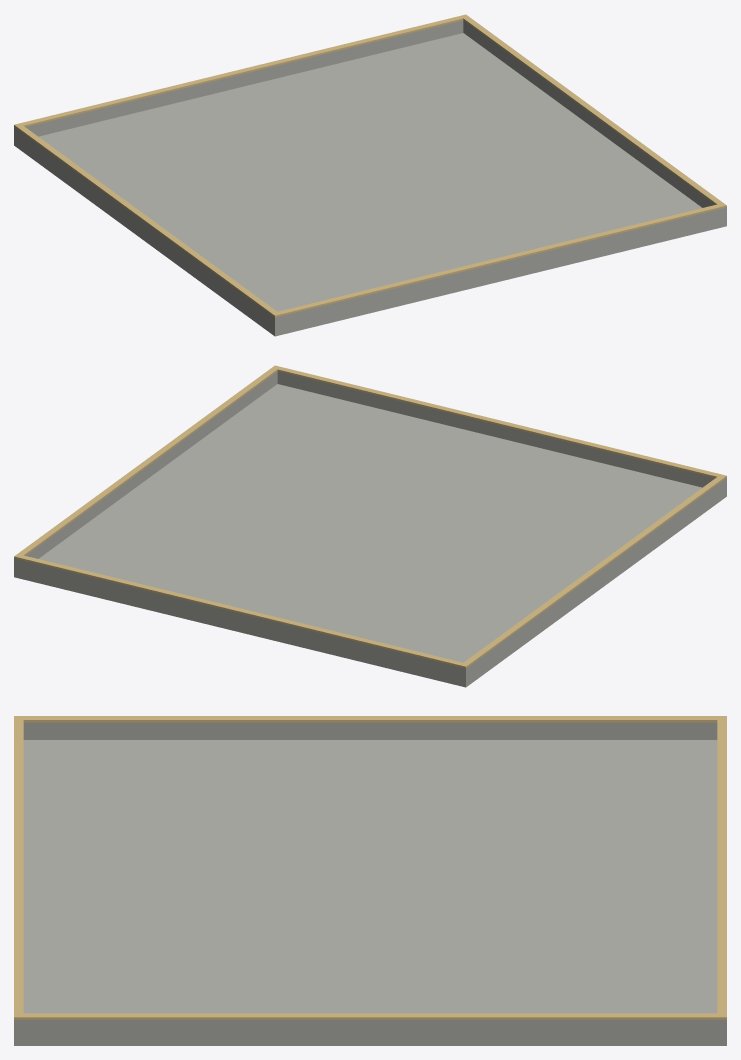
Rendered from mod_roof_flat.glb.
The picture shows the model from 3 angles, top to bottom: view 1: azimuth 30°, elevation 25°; view 2: azimuth 150°, elevation 25°; view 3: azimuth 270°, elevation 25°; orthographic projection. The views are drawn at different scales.
Parts seen in each view (by area): view 1: Mod_RoofFlat; view 2: Mod_RoofFlat; view 3: Mod_RoofFlat.
Boxes of the visible parts, x1=… form: Mod_RoofFlat: x1=14, y1=14, x2=726, y2=336; Mod_RoofFlat: x1=14, y1=365, x2=726, y2=687; Mod_RoofFlat: x1=14, y1=716, x2=726, y2=1045.
Bounding box in the file's own units: 15 × 0.66 × 15.
